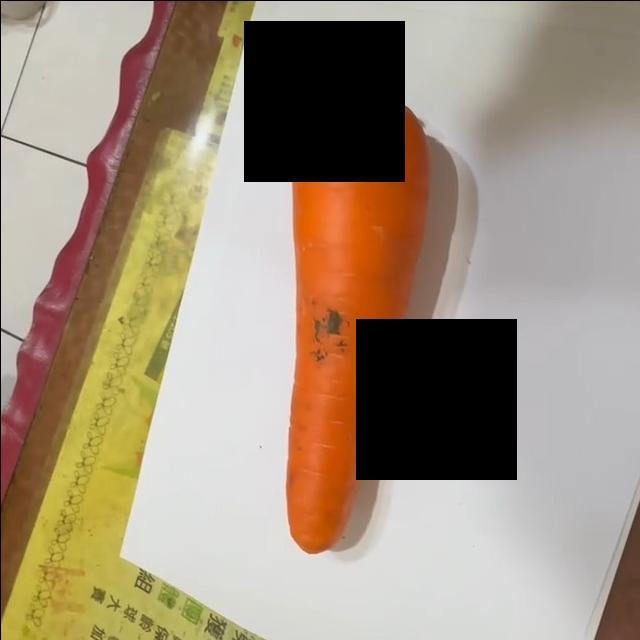carrot: (285, 63, 428, 551)
